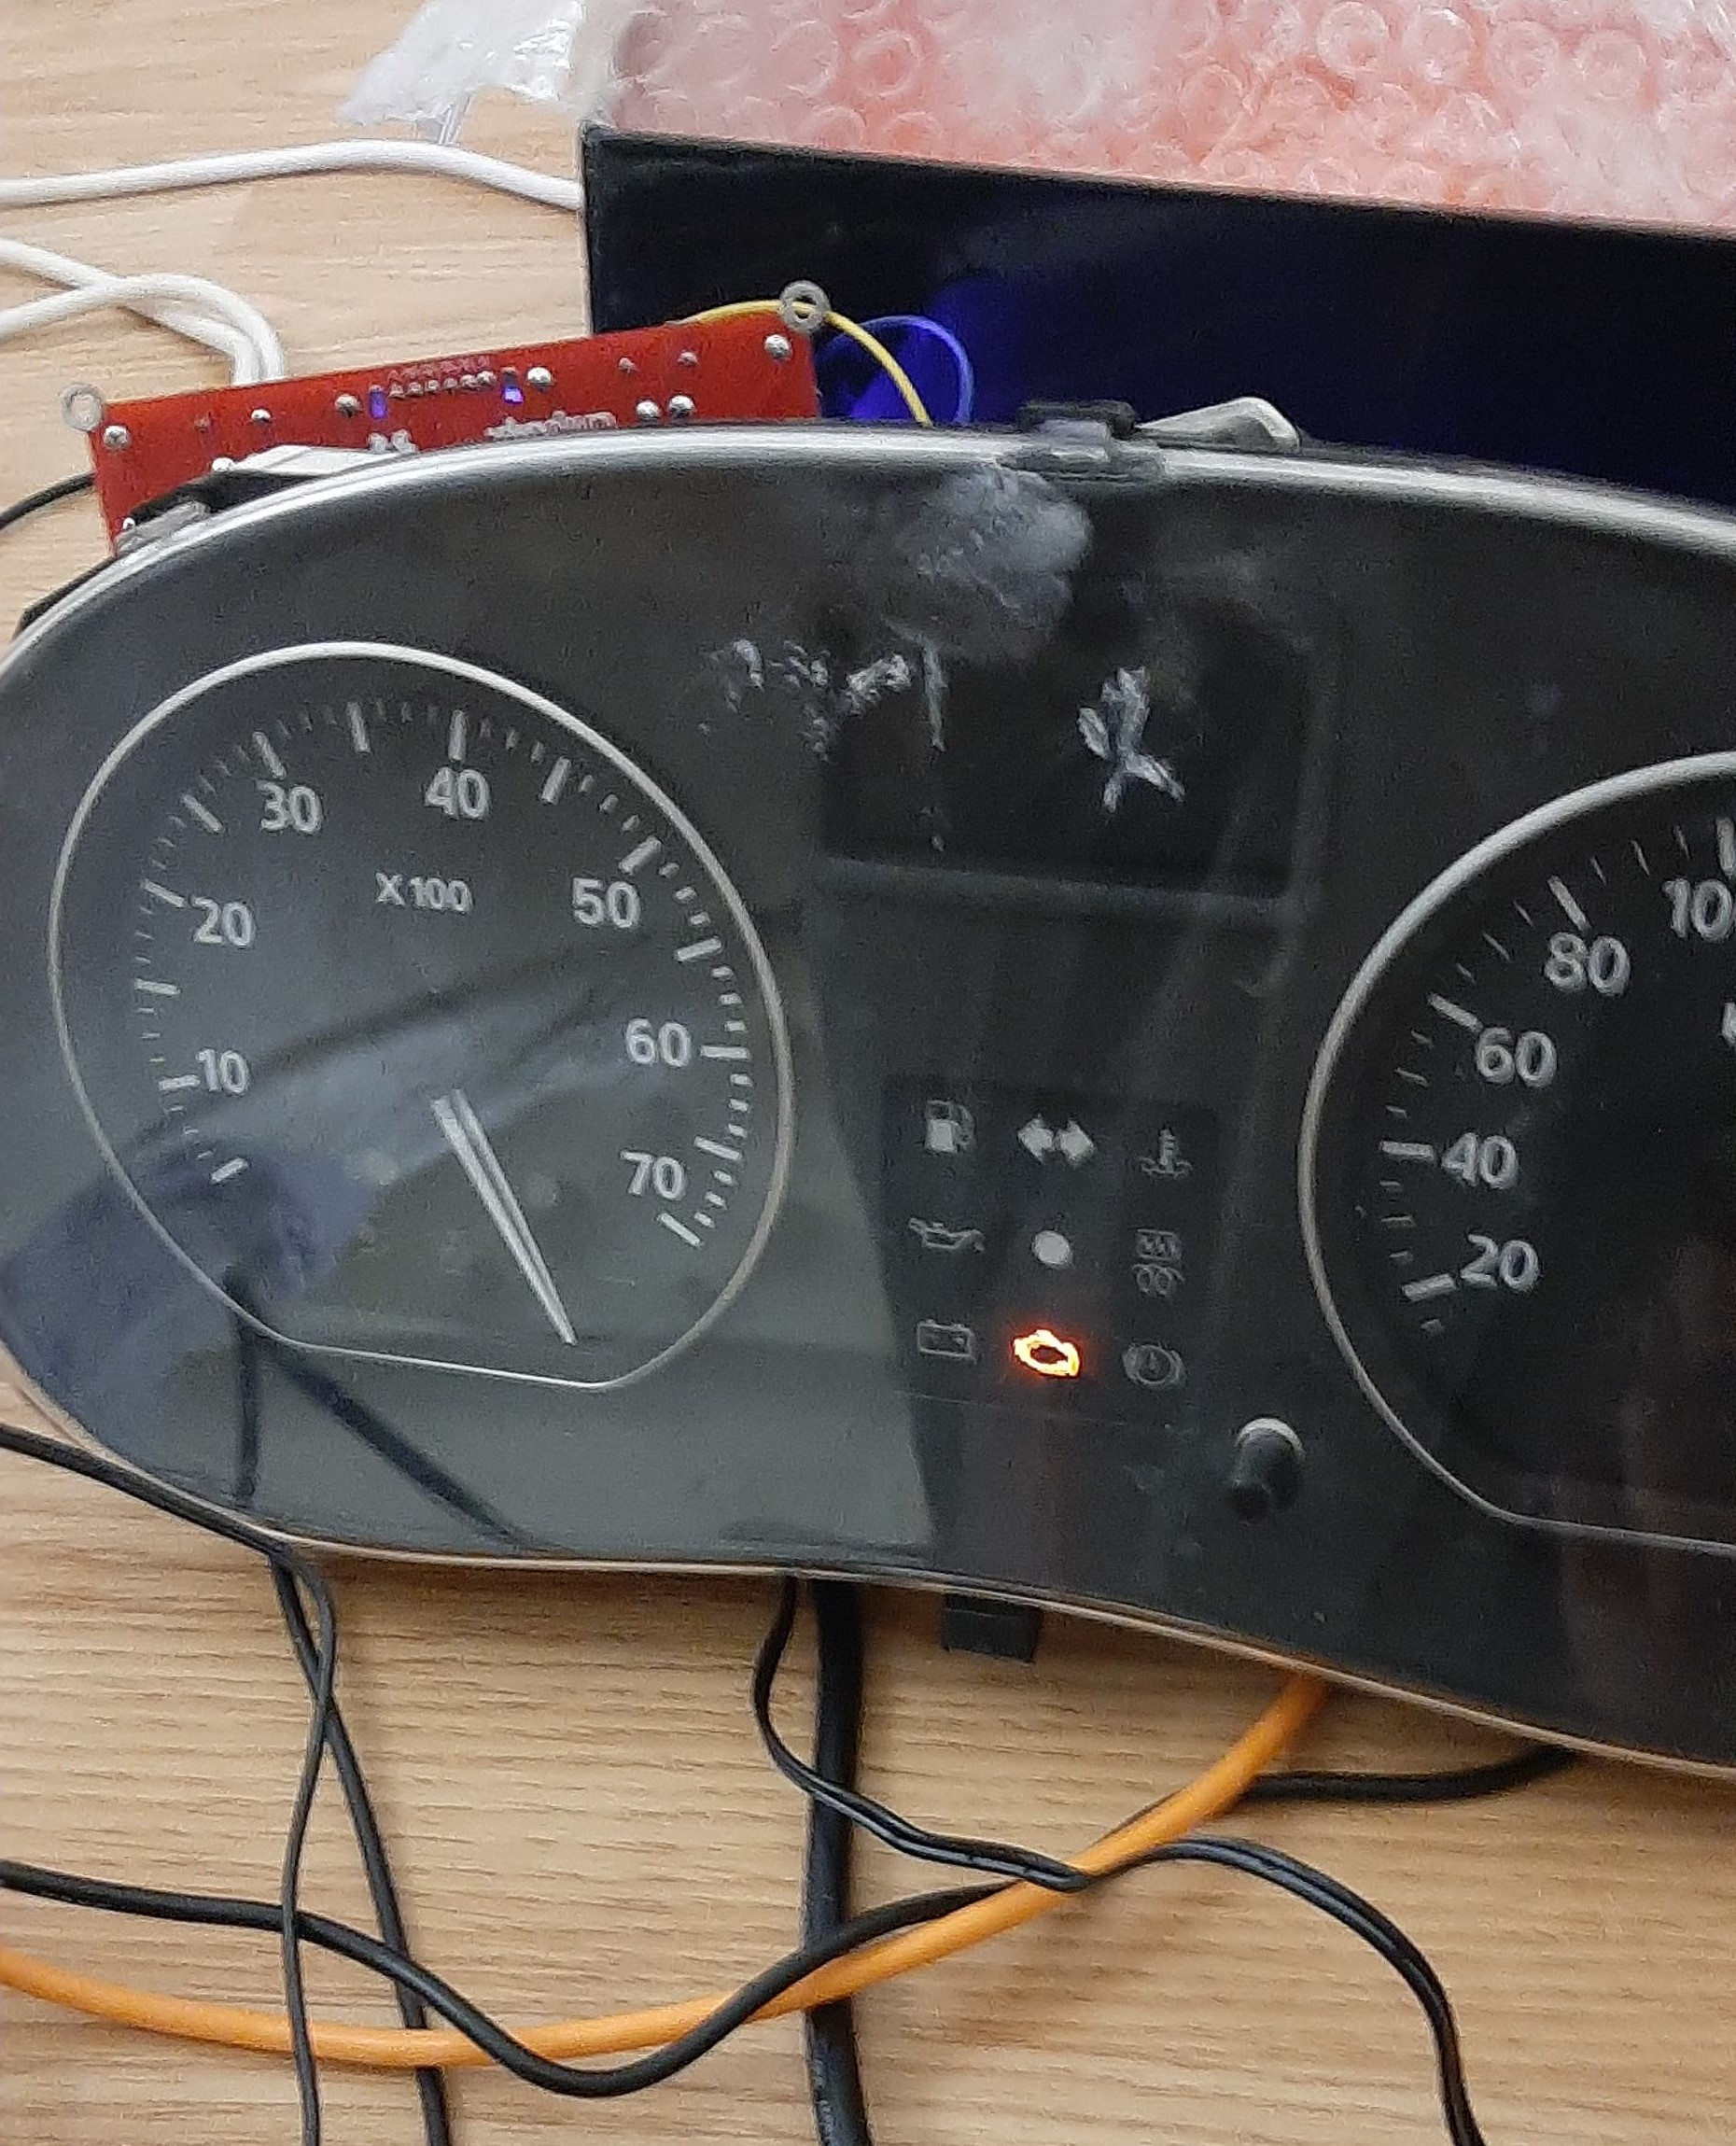engine29: (1010, 1326, 1082, 1380)
